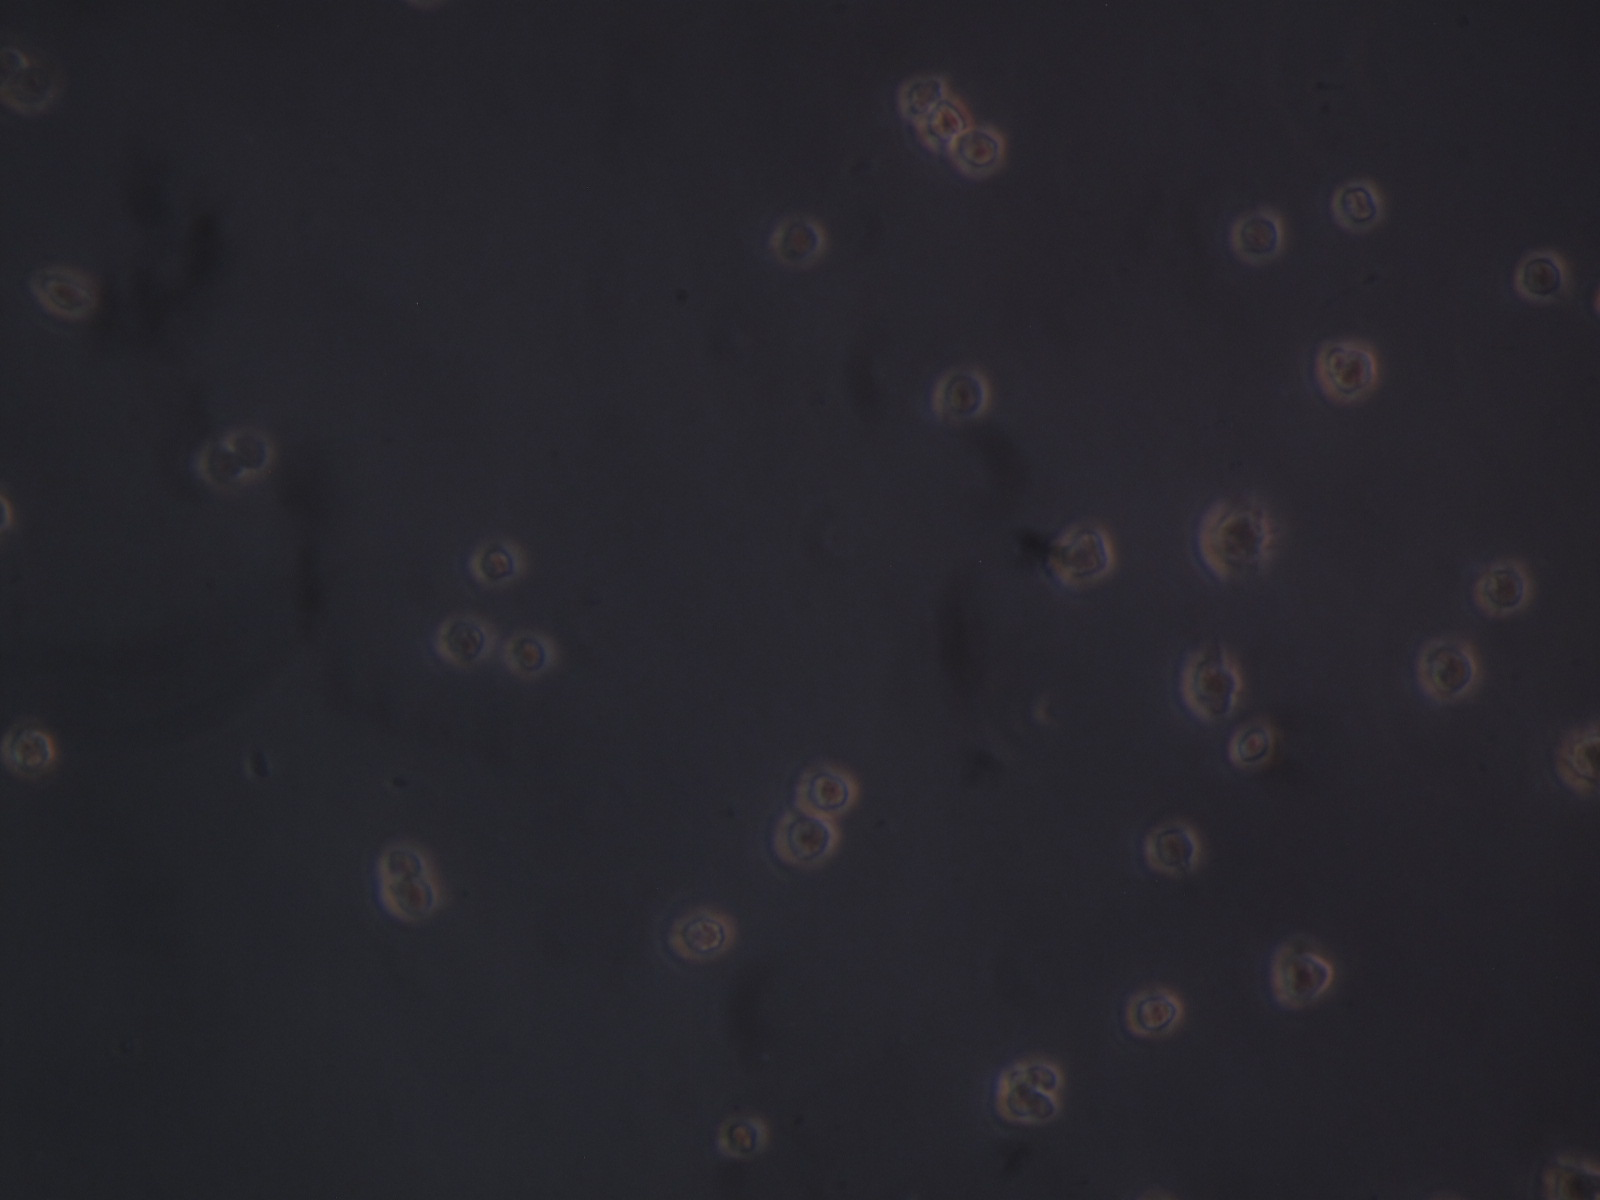hemo: (1199, 497, 1270, 581), (1314, 337, 1380, 402), (1267, 942, 1333, 1005), (1052, 521, 1117, 584), (1417, 639, 1478, 707), (772, 811, 842, 870), (792, 758, 858, 819), (1470, 558, 1534, 620), (1184, 652, 1242, 717), (666, 908, 736, 962), (934, 364, 991, 424), (1230, 205, 1286, 266), (435, 611, 493, 669), (1124, 983, 1183, 1039), (944, 124, 1008, 174), (1329, 178, 1385, 234), (1513, 245, 1567, 303), (1144, 819, 1198, 875), (1558, 726, 1600, 795), (223, 425, 277, 478), (769, 213, 823, 266), (918, 97, 973, 149), (383, 876, 442, 921), (501, 629, 553, 679), (37, 270, 93, 315), (998, 1083, 1060, 1124), (470, 537, 524, 584), (1225, 718, 1277, 765), (197, 439, 247, 487), (5, 724, 54, 771), (714, 1114, 767, 1158), (1545, 1160, 1600, 1200), (900, 76, 947, 120), (375, 845, 431, 879)
